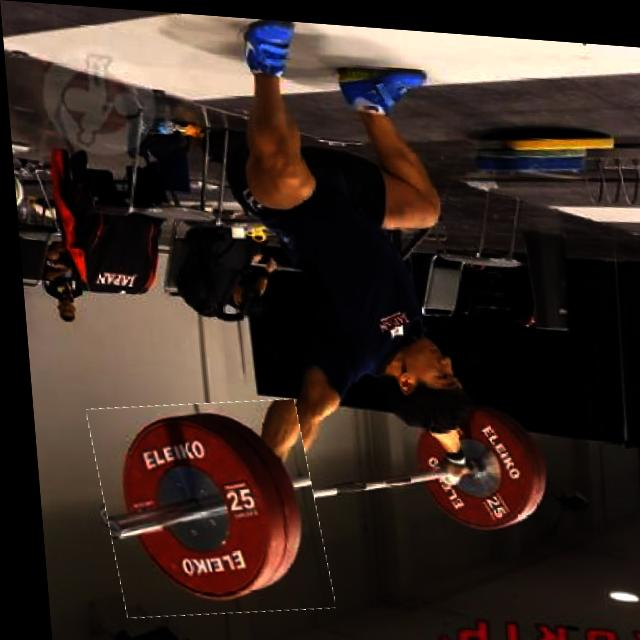barbell: (84, 391, 321, 623)
